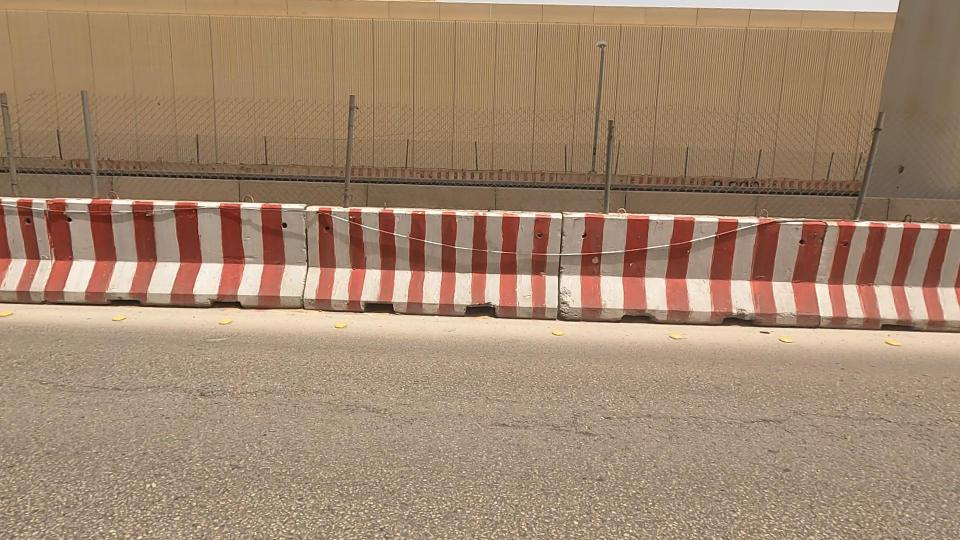CONSTRUCTION_ROAD: (183, 71, 960, 448), (0, 67, 509, 397)
